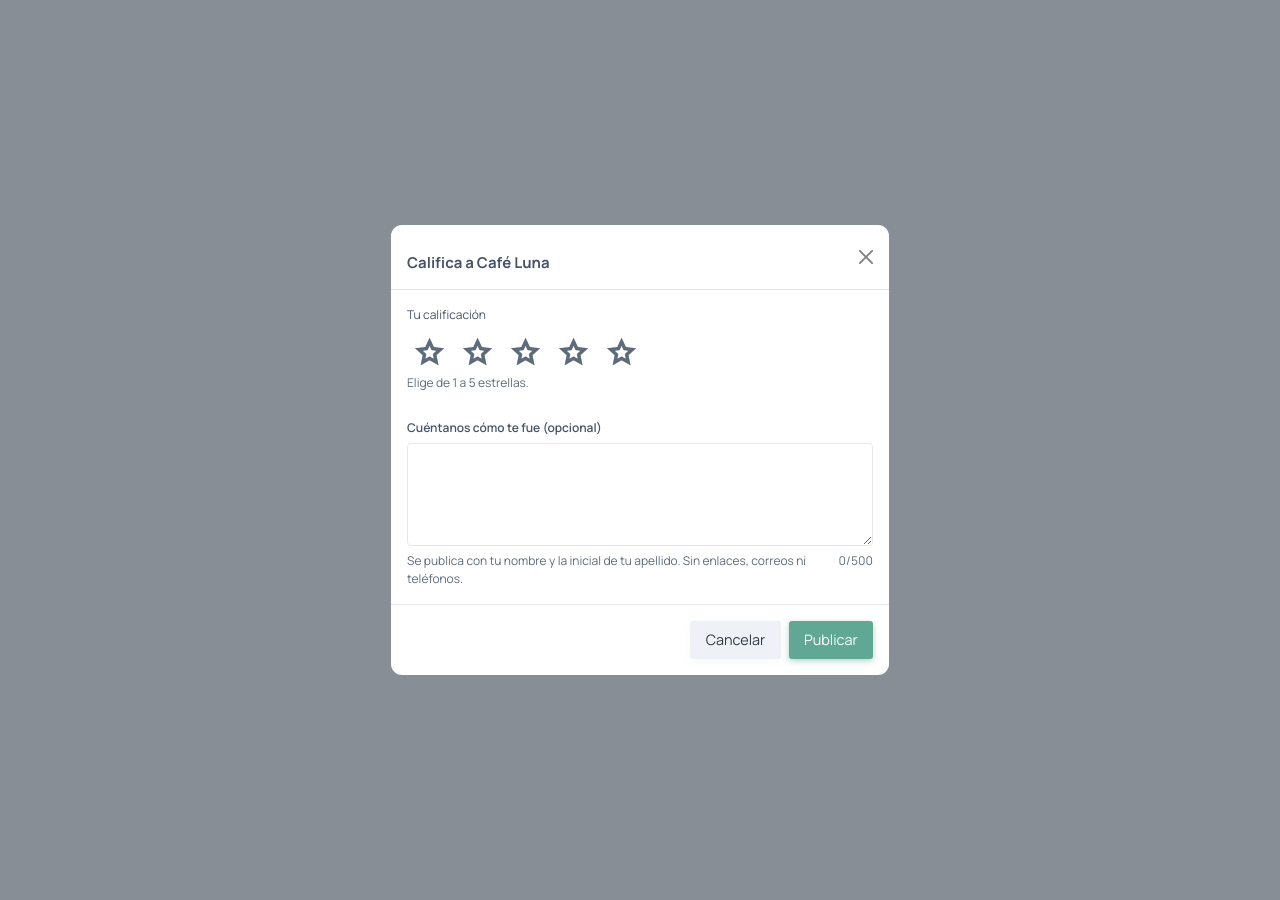
Scenario: ReviewDialog › asks for the stars first, and keeps what was written when the API refuses it
The image size is (1280, 900).
expect the button "Publicar" is disabled: met, box [789,621,873,659]
expect the dialog "Califica a Café Luna" shows "Elige de 1 a 5 estrellas.": met, box [407,374,529,391]
Click the radio button named "1 estrella" at (429, 352), box [415,331,443,373]
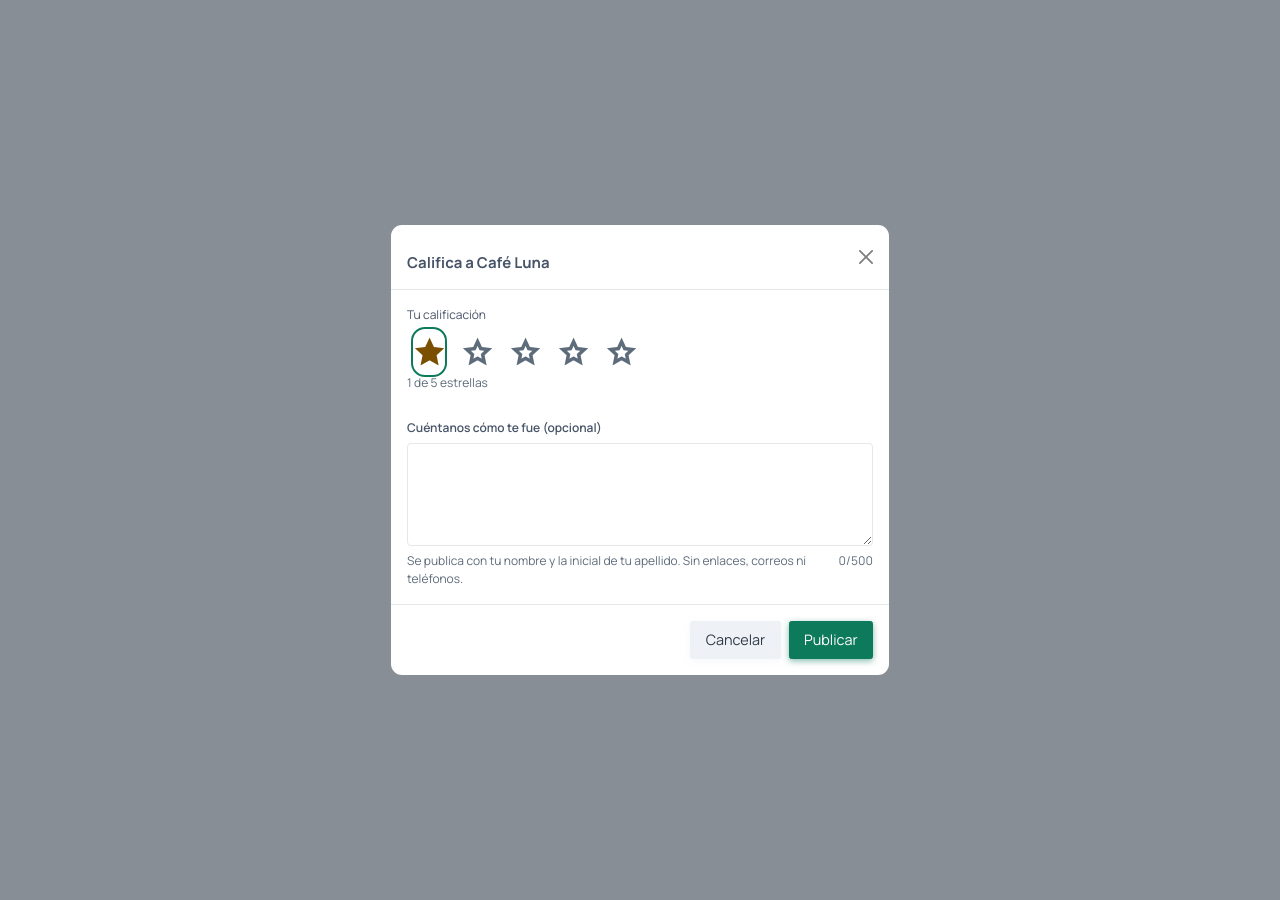
Type "Escríbeme a www.ofertas.com" into the text box labelled "Cuéntanos cómo te fue (opcional)" at (640, 495), box [407,443,873,546]
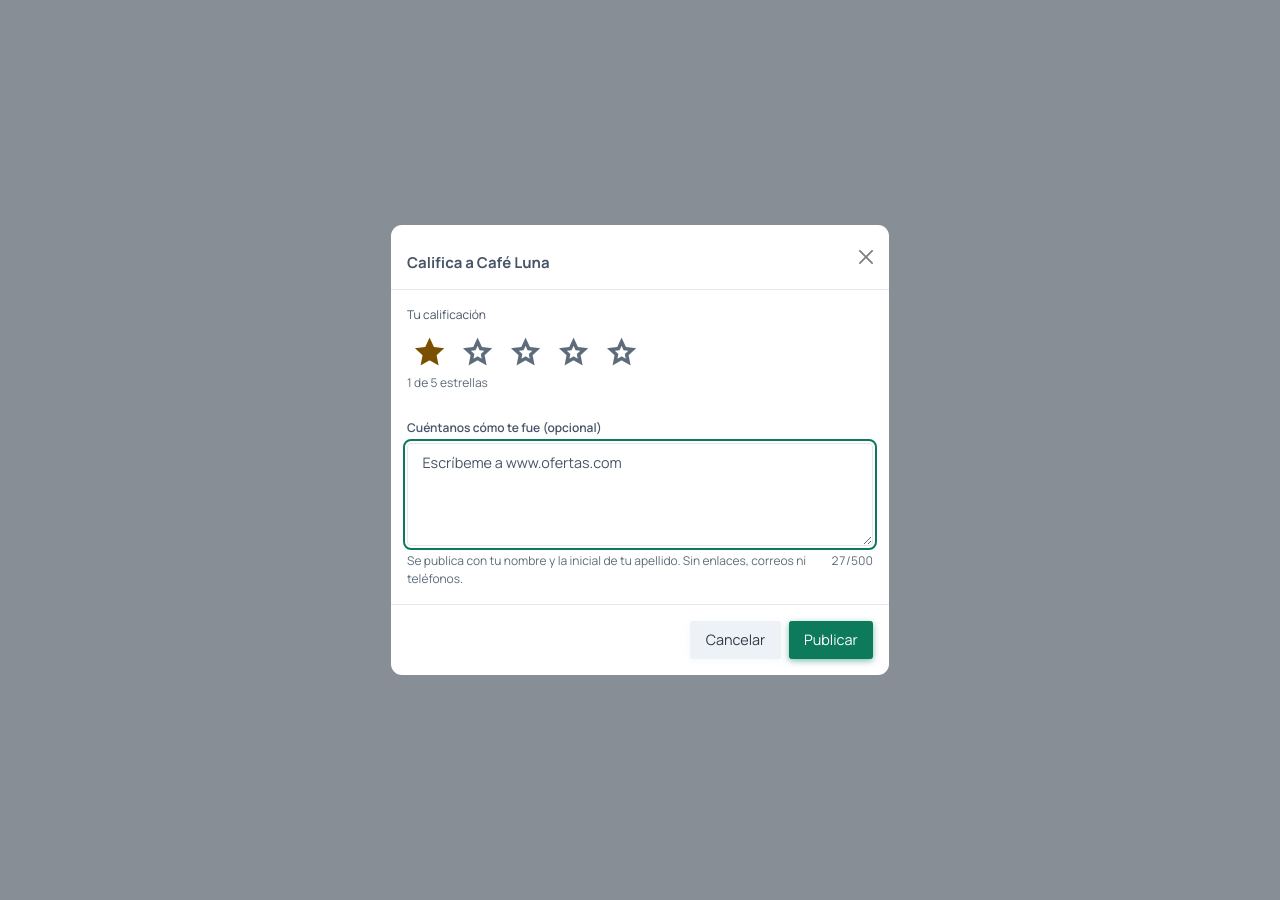
Click the button "Publicar" at (831, 640), box [789,621,873,659]
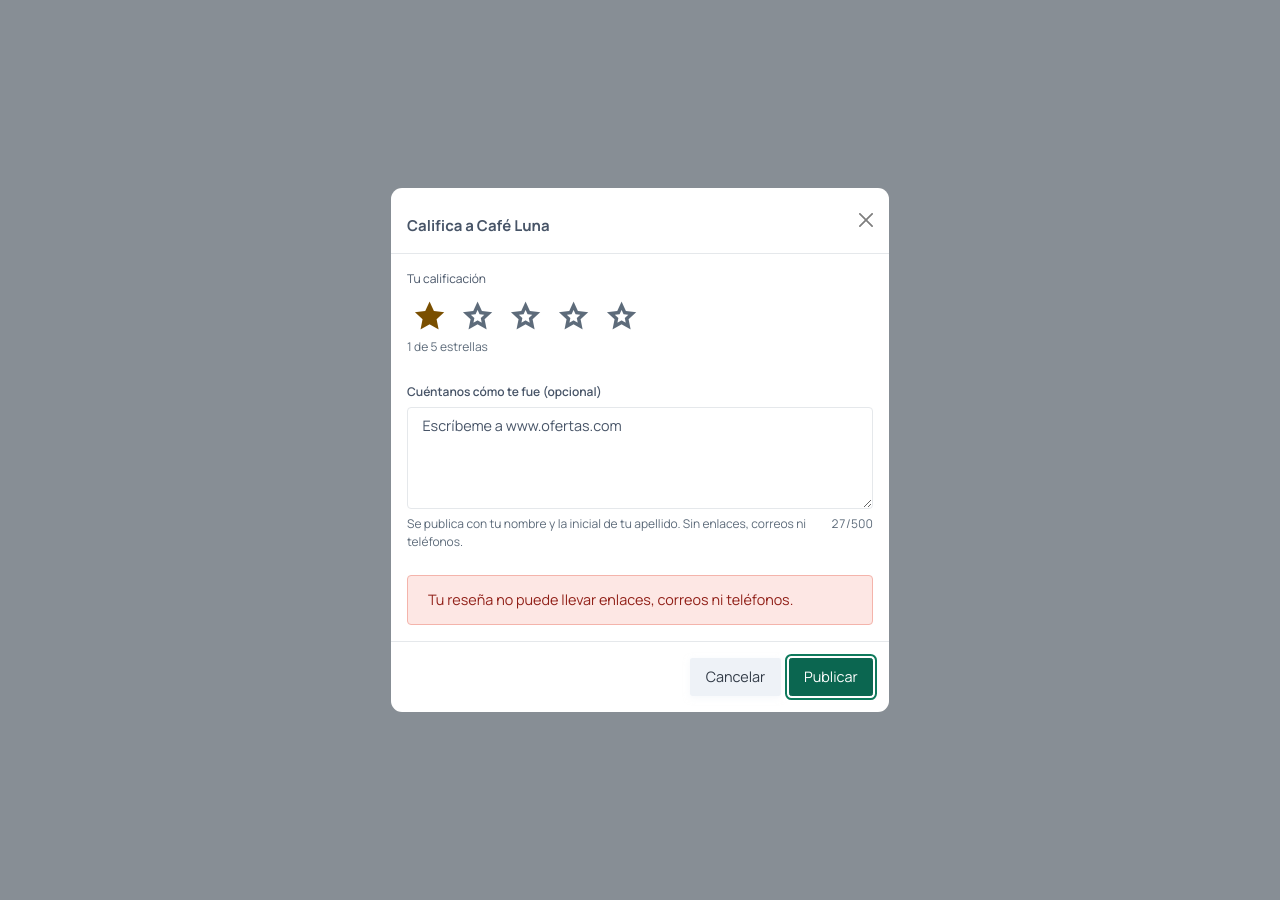
expect the message reads "Tu reseña no puede llevar enlaces, correos ni teléfonos.": met, box [428,590,793,609]
